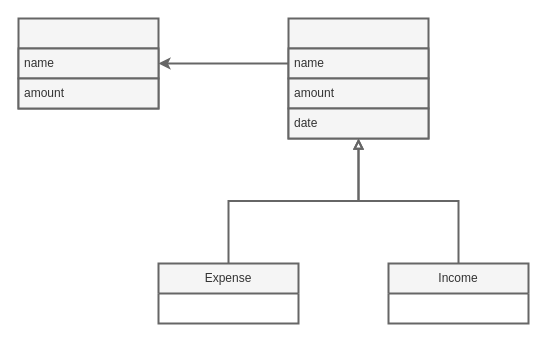
Image size: 546x341. Some labels were removed from this diagram. Each missing label, with the box of its shape:
Envelope: (17, 17, 159, 109)
Transaction: (287, 17, 429, 139)
